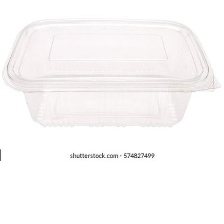plastic_box: (0, 11, 224, 137)
